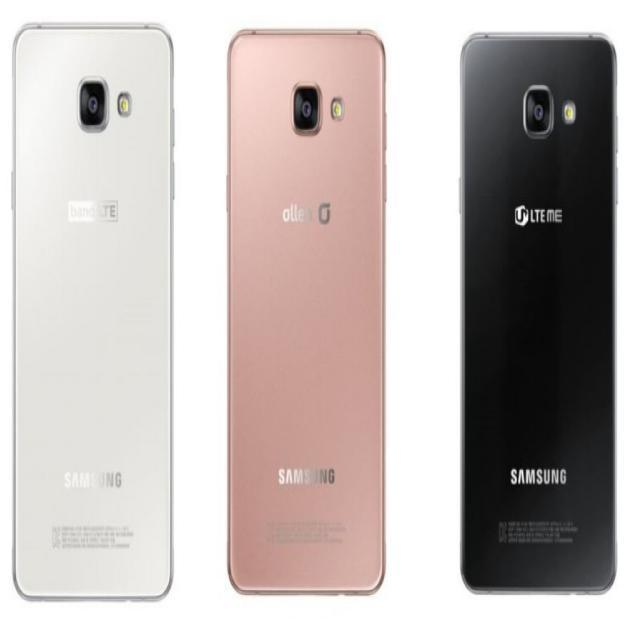phone: (10, 21, 176, 602), (225, 26, 388, 598), (457, 30, 618, 595)
